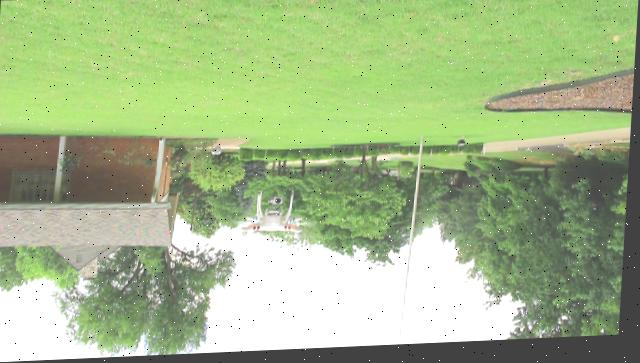drone: (236, 193, 310, 245)
